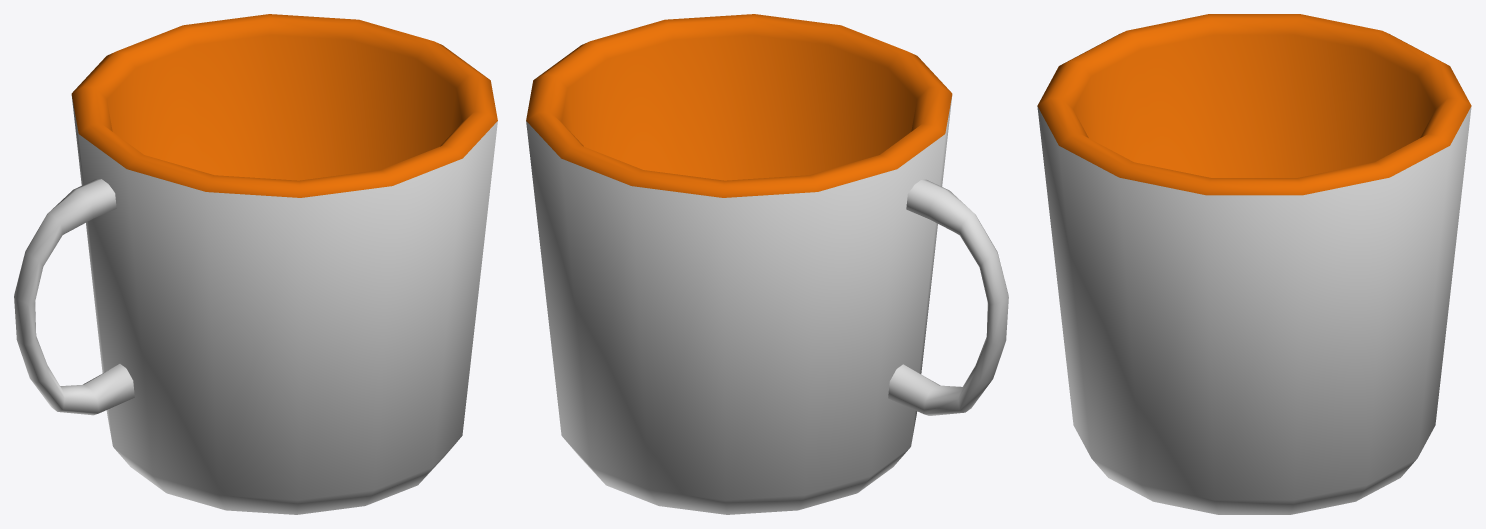
The model's file is Orange_mug.fbx.
3 views of the same model, side by side, from view 1: azimuth 30°, elevation 25°; view 2: azimuth 150°, elevation 25°; view 3: azimuth 270°, elevation 25° (orthographic).
Visible parts, largest first — view 1: Orange_mug; view 2: Orange_mug; view 3: Orange_mug.
Boxes of the visible parts, x1,y1,x2,y2 form: Orange_mug: (14,14,497,514); Orange_mug: (526,14,1008,514); Orange_mug: (1037,14,1471,514).
Size of the model in its own units: 0.0338 by 0.0249 by 0.0281.
Materials: 1 (1 with a texture image).
